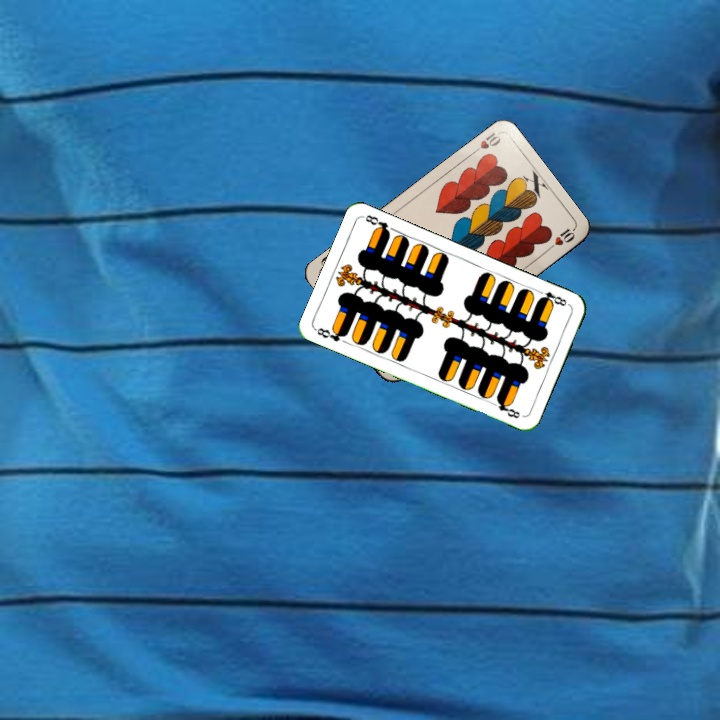E8: (533, 286, 572, 309), (312, 323, 350, 344)
H10: (467, 128, 503, 157)
